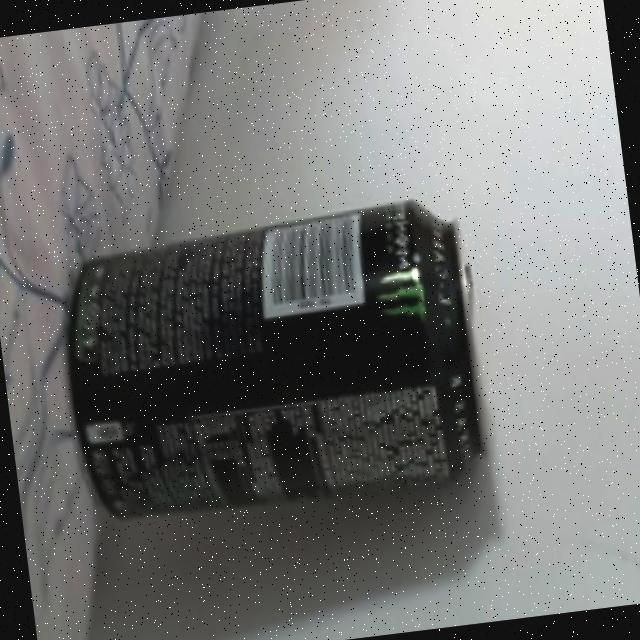Metal: (47, 190, 498, 532)
